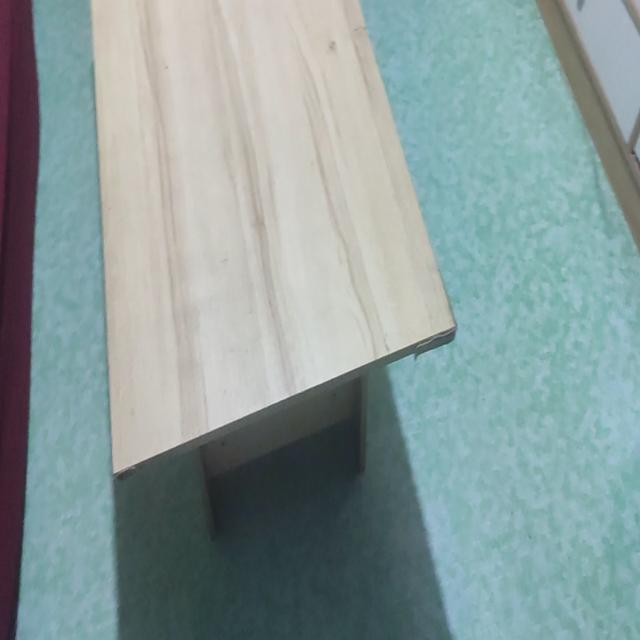table: (87, 0, 460, 515)
